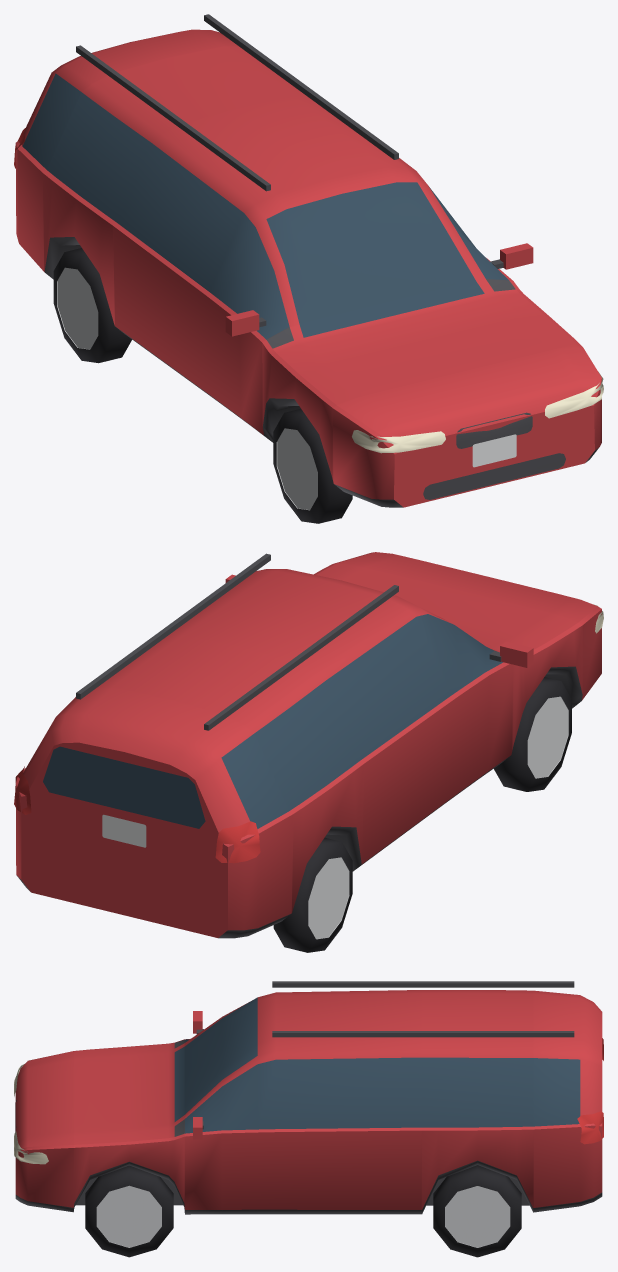
File: site_car2.fbx
3 views of the same model, one above another, from view 1: azimuth 30°, elevation 25°; view 2: azimuth 150°, elevation 25°; view 3: azimuth 270°, elevation 25° (orthographic). The views are drawn at different scales.
Visible parts, largest first — view 1: a2020/0/site_car2; view 2: a2020/0/site_car2; view 3: a2020/0/site_car2.
Boxes of the visible parts, bbox=[...] form: a2020/0/site_car2: bbox=[14, 14, 603, 523]; a2020/0/site_car2: bbox=[14, 552, 603, 952]; a2020/0/site_car2: bbox=[14, 981, 603, 1257].
Bounding box in the file's own units: 2.26 × 1.84 × 4.83.
